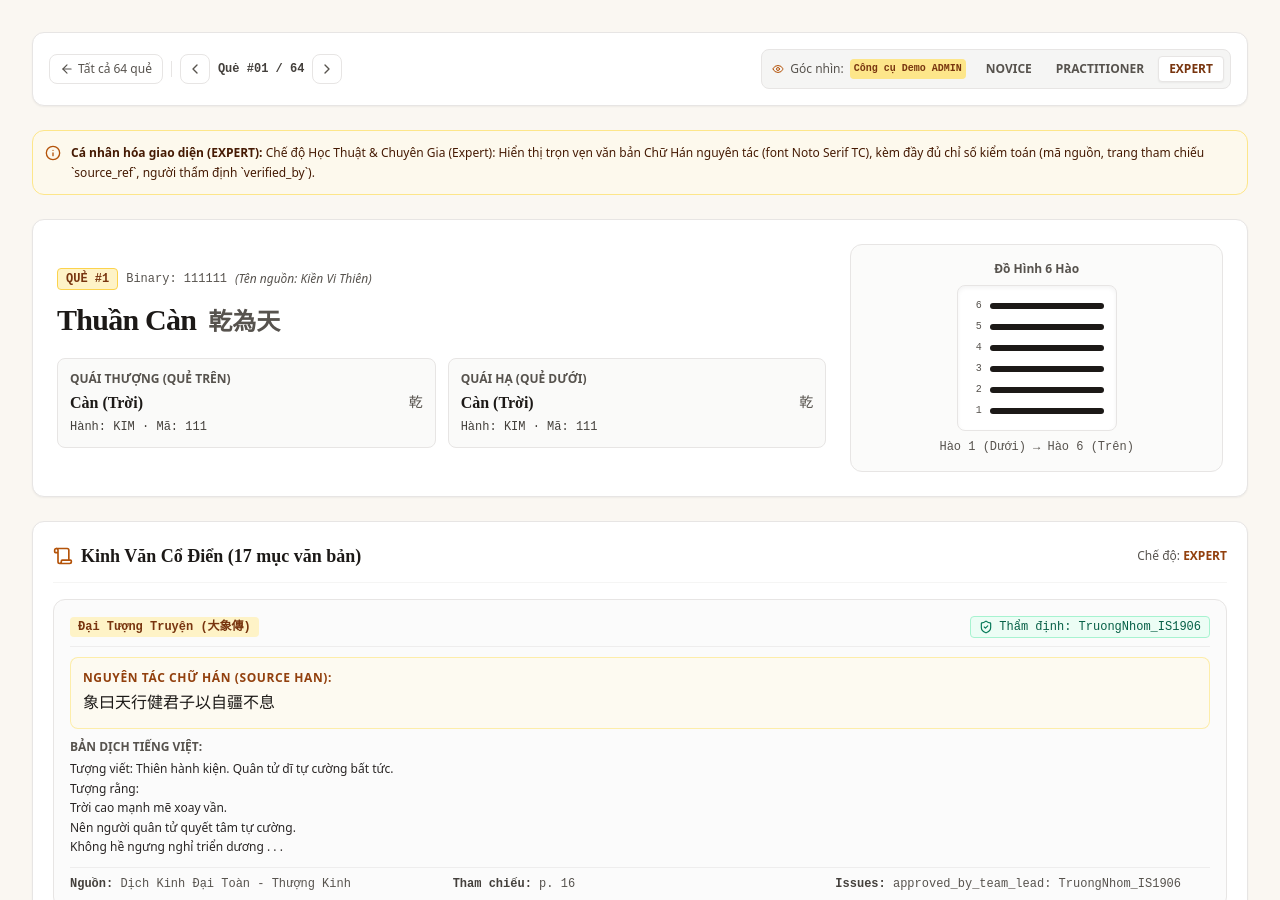
HexagramDetailPage: Cá nhân hóa tri thức 3 cấp độ (Wiig 1993) & Tuân thủ RBAC › Cấp độ NOVICE: Ẩn toàn bộ chữ Hán và trường kiểm toán, hiển thị bản dịch tiếng Việt
Check: the heading "Thuần Càn" is shown, box [57,302,196,338]
// Chọn tab NOVICE
Click the button "NOVICE": point(1009, 69) [976,57,1042,81]
(page scrolled)
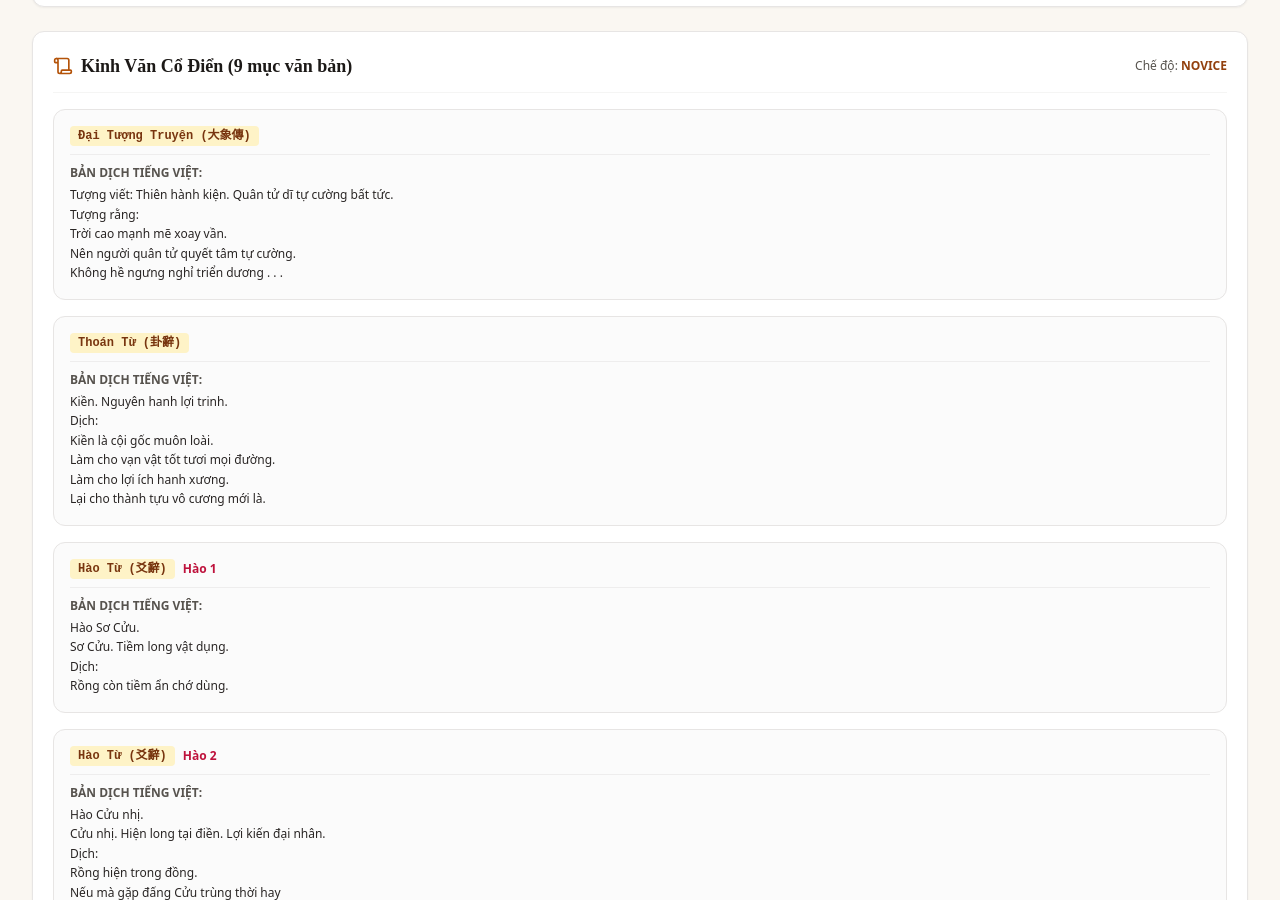
Check: the text "象曰天行健君子以自疆不息" is gone
Check: the text "Thẩm định: TruongNhom_IS1906" is gone
Check: the text "p. 16" is gone
